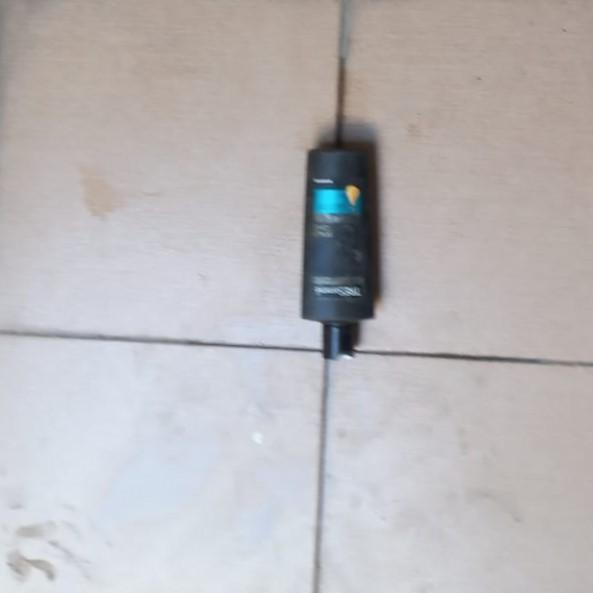Plastik: (299, 147, 380, 360)
